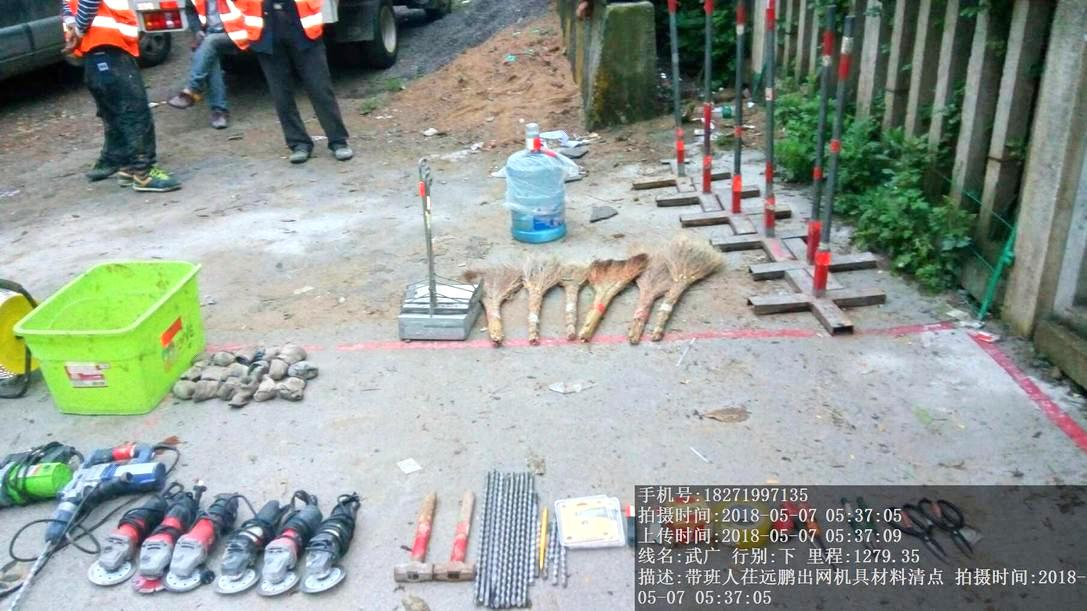DMJ: (172, 494, 226, 591), (304, 493, 354, 592), (259, 510, 314, 593), (213, 511, 266, 590)
DZ: (42, 449, 167, 547)
SB: (663, 236, 726, 343), (461, 261, 522, 346), (582, 257, 642, 339), (519, 256, 559, 348), (560, 266, 586, 337)
T: (22, 255, 204, 414)
